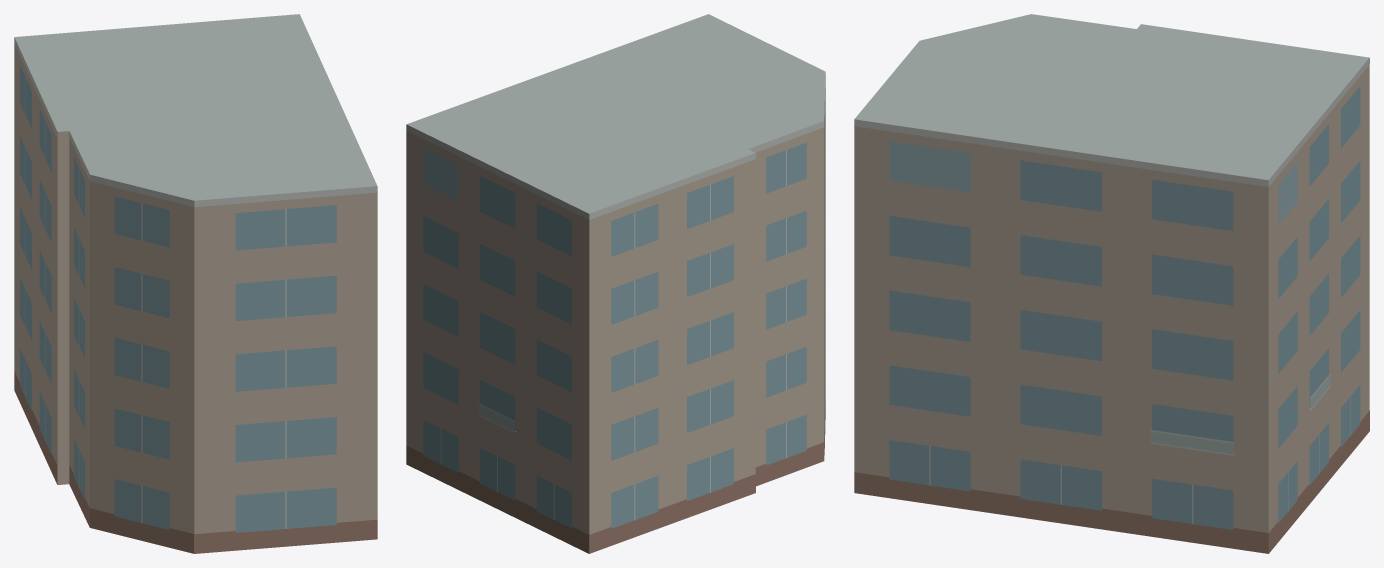
The model's file is survey-upis-32873513.glb.
The picture shows the model from 3 angles, left to right: view 1: azimuth 30°, elevation 25°; view 2: azimuth 150°, elevation 25°; view 3: azimuth 270°, elevation 25°; orthographic projection. The views are drawn at different scales.
Visible parts, largest first — view 1: survey-upis-32873513.tmp; view 2: survey-upis-32873513.tmp; view 3: survey-upis-32873513.tmp.
Part boxes in pixels (x1,y1,x2,y2): survey-upis-32873513.tmp: (14,14,377,553); survey-upis-32873513.tmp: (406,14,825,553); survey-upis-32873513.tmp: (854,14,1369,553).
Size of the model in its own units: 12.7 by 13.3 by 16.64.
